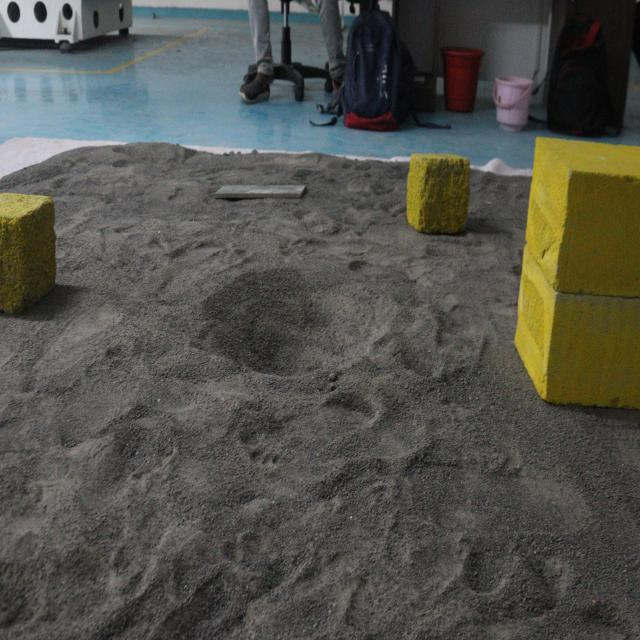box: (518, 123, 640, 420), (399, 140, 478, 248)
crater: (187, 250, 399, 391)
